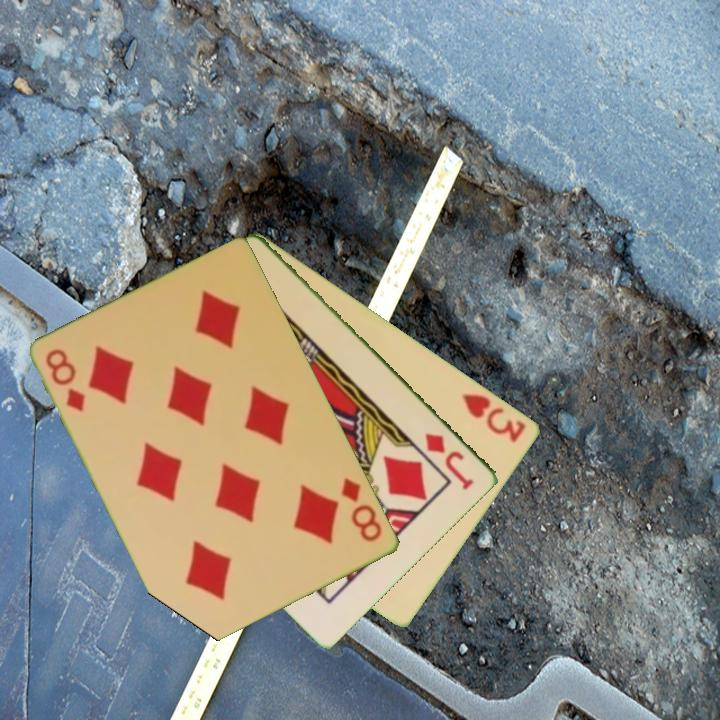3h: (458, 389, 530, 446)
8d: (338, 474, 386, 545), (42, 345, 89, 415)
Jd: (421, 429, 477, 493)
